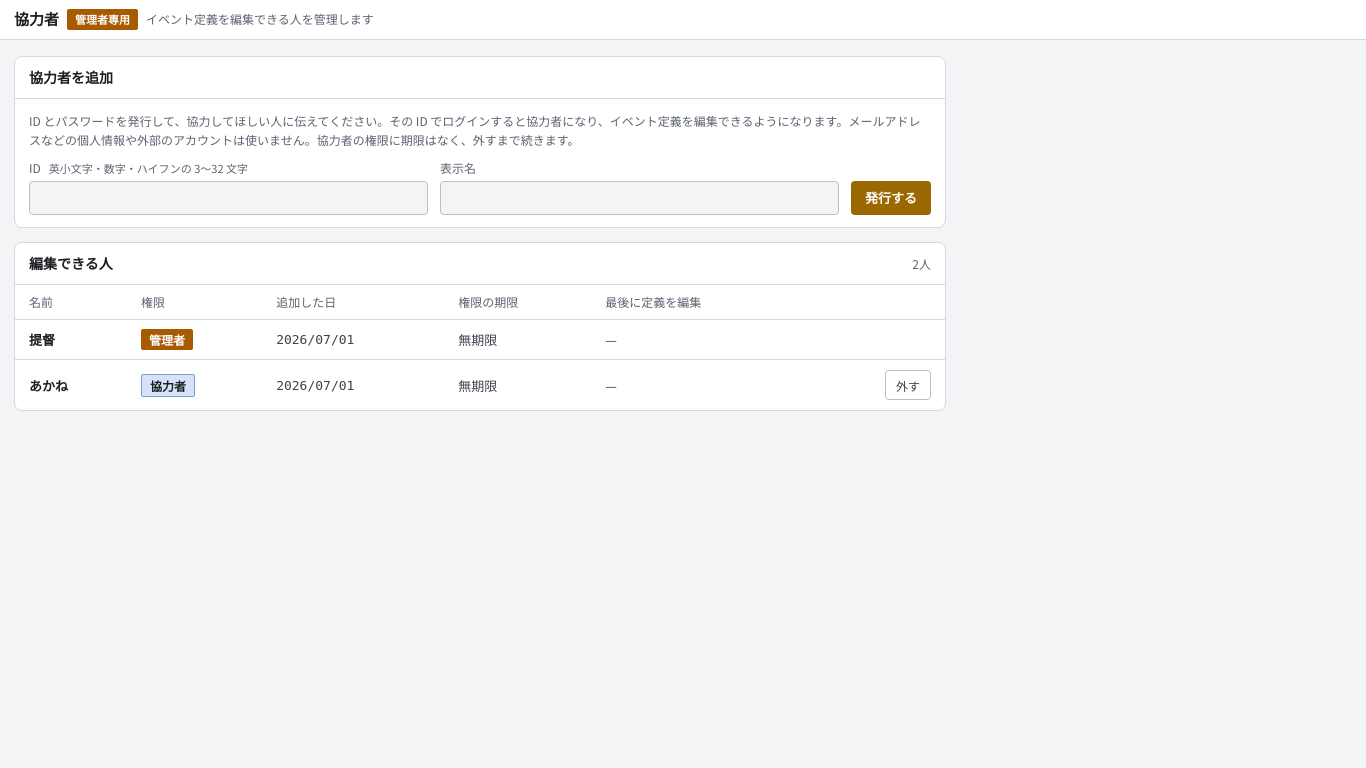
Test: 協力者の画面（/collaborators） › ID と表示名を入れて発行すると、保存しない別のクライアントでアカウントを作り、管理者のログインのまま register_collaborator で協力者にして、パスワードを出す
In the field labelled "ID": (228, 198) [29,181,428,215], type "hanako-2"
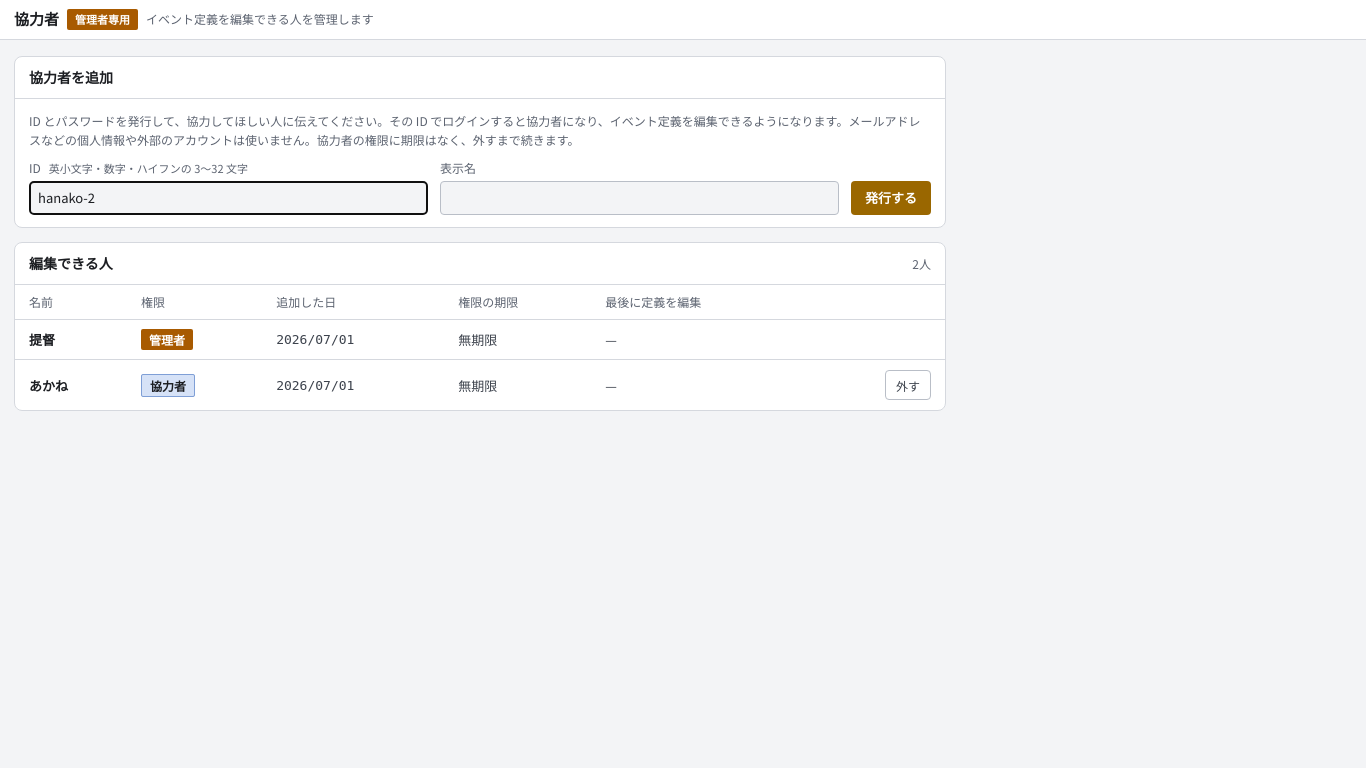
In the field labelled "表示名": (640, 198) [440,181,839,215], type "花子"
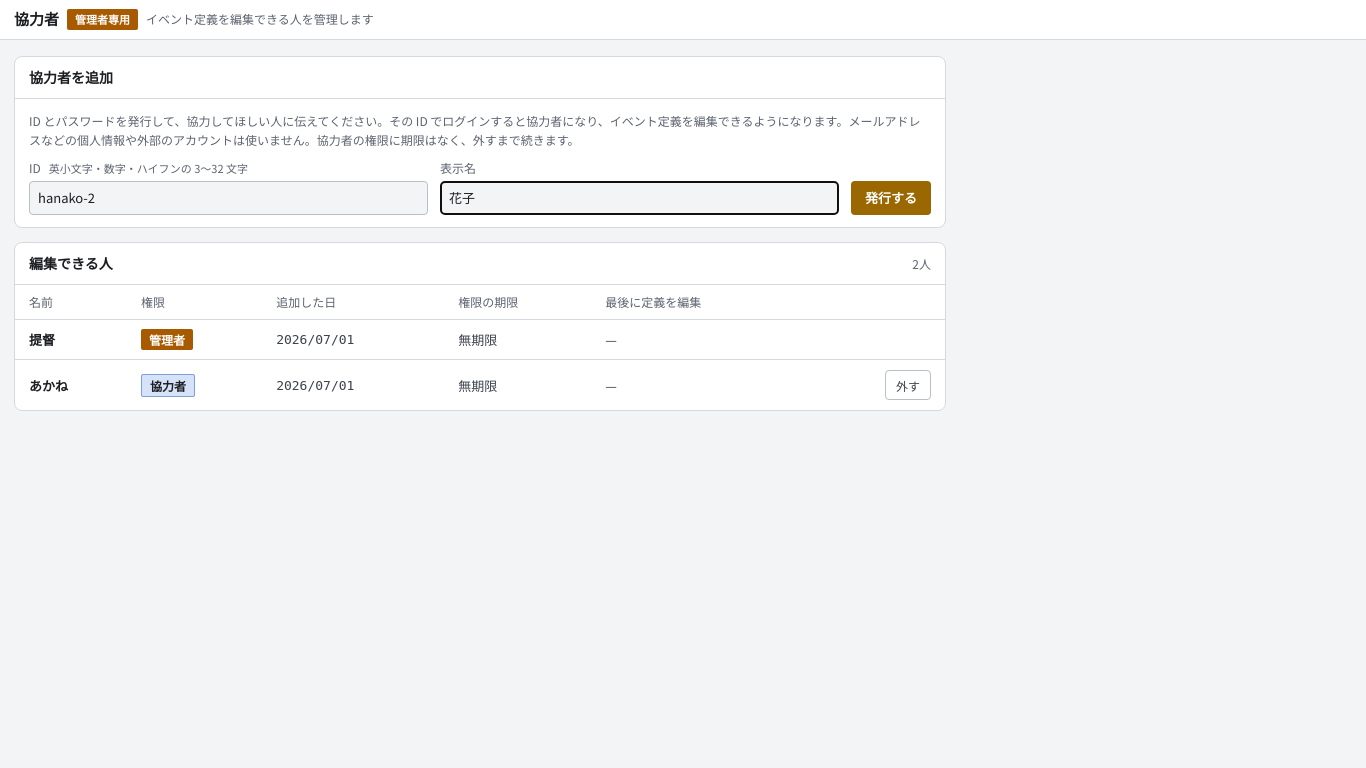
Click the button "発行する": (891, 198) [851,181,931,215]
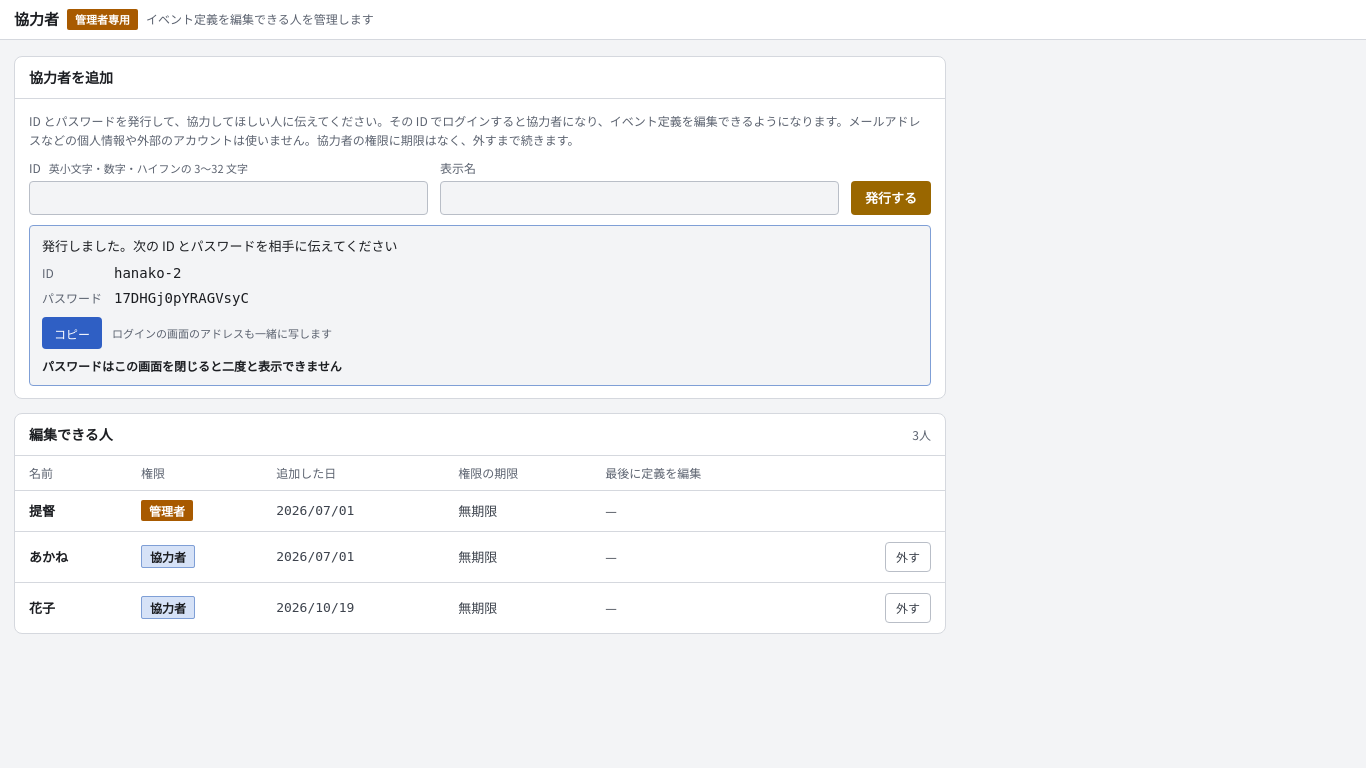
Expected: the text "パスワードはこの画面を閉じると二度と表示できません" is shown, [42,357,342,374]
Expected: the row "花子 協力者 2026/10/19 無期限 — 外す" is shown, [15,582,945,633]
